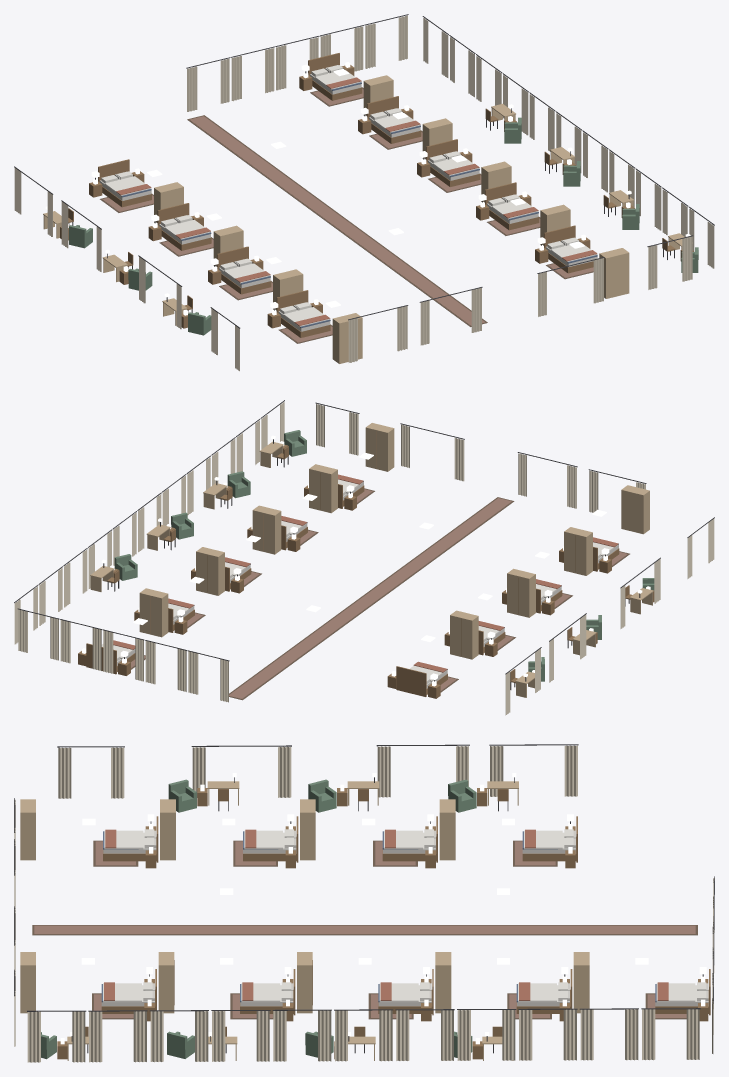
The model's file is fine-s1.glb.
3 views of the same model, one above another, from view 1: azimuth 30°, elevation 25°; view 2: azimuth 150°, elevation 25°; view 3: azimuth 270°, elevation 25° (orthographic). The views are drawn at different scales.
Visible parts, largest first — view 1: soft-s1, dresser.008, dresser.003, bed-frame.001, bed-frame.003, bed-frame.002, bed-frame.007, bed-frame.005, bed-frame.004, bed-frame.006, bed-frame.000, bed-frame.008 (+7 smaller); view 2: soft-s1, dresser.006, dresser.004, dresser.008, dresser.002, dresser.003, dresser.000, dresser.001, dresser.005, dresser.007, bed-frame.000; view 3: soft-s1, dresser.000, dresser.007, dresser.005, dresser.001, dresser.002, dresser.003, dresser.006, dresser.004, dresser.008, bed-frame.002, bed-frame.003 (+11 smaller).
Boxes of the visible parts, x1,y1,x2,y2 form: soft-s1: (14, 14, 714, 371); dresser.008: (599, 248, 629, 298); dresser.003: (332, 313, 362, 363); bed-frame.001: (157, 203, 211, 250); bed-frame.003: (276, 290, 330, 337); bed-frame.002: (217, 246, 271, 294); bed-frame.007: (485, 182, 539, 230); bed-frame.005: (367, 96, 421, 143); bed-frame.004: (308, 53, 362, 100); bed-frame.006: (426, 139, 480, 186); bed-frame.000: (98, 159, 151, 207); bed-frame.008: (544, 225, 597, 273); soft-s1: (14, 400, 714, 715); dresser.006: (252, 505, 281, 554); dresser.004: (139, 588, 168, 637); dresser.008: (365, 423, 394, 471); dresser.002: (564, 527, 592, 575); dresser.003: (621, 485, 649, 534); dresser.000: (450, 610, 478, 659); dresser.001: (507, 568, 535, 617); dresser.005: (196, 547, 224, 595); dresser.007: (309, 464, 337, 513); bed-frame.000: (396, 666, 447, 696); soft-s1: (14, 744, 714, 1062); dresser.000: (439, 799, 455, 860); dresser.007: (158, 952, 174, 1013); dresser.005: (435, 952, 451, 1013); dresser.001: (300, 799, 315, 860); dresser.002: (160, 799, 175, 860); dresser.003: (20, 799, 35, 860); dresser.006: (297, 952, 312, 1013); dresser.004: (573, 952, 589, 1013); dresser.008: (20, 952, 35, 1013); bed-frame.002: (243, 816, 298, 862); bed-frame.003: (103, 816, 158, 862).
Size of the model in its own units: 23.95 by 2.21 by 26.58.
